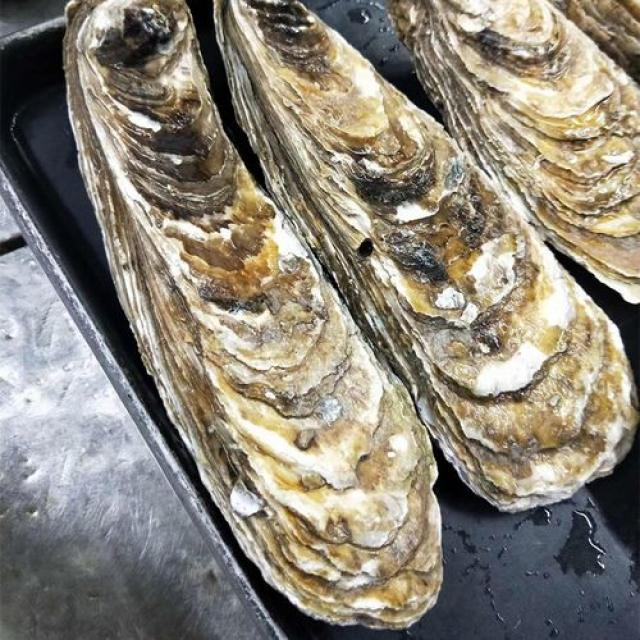Oyster- Indeterminate: (59, 0, 450, 640), (212, 0, 640, 517), (387, 0, 640, 307)
